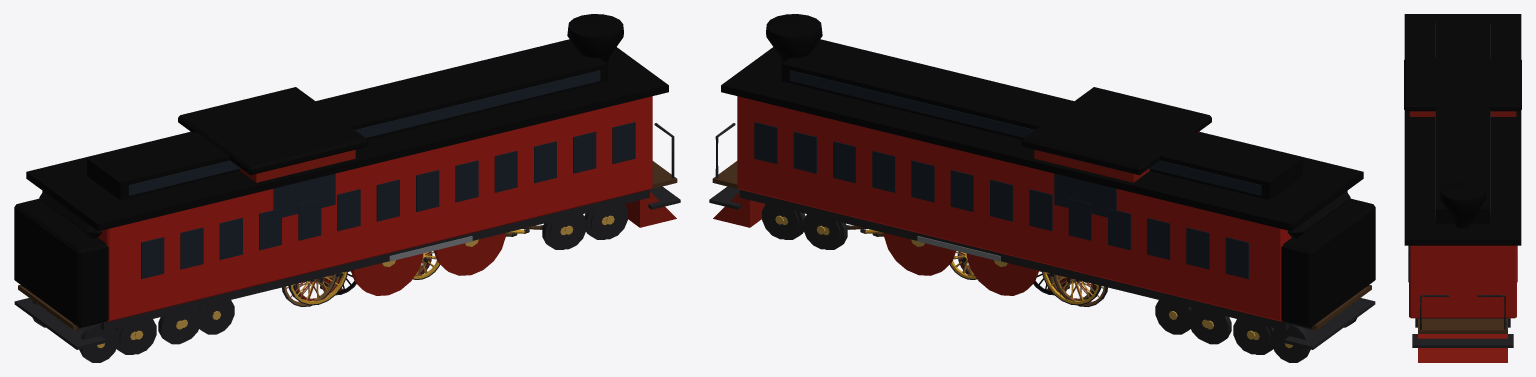
The model's file is vehicles.glb.
3 renders of one model, left to right at view 1: azimuth 30°, elevation 25°; view 2: azimuth 150°, elevation 25°; view 3: azimuth 270°, elevation 25°, orthographic. The views are drawn at different scales.
Visible parts, largest first — view 1: coach.body, locomotive.body, covered_standing.body, stagecoach_trailer.body, coach_standing.body; view 2: coach.body, locomotive.body, stagecoach_trailer.body, covered_standing.body; view 3: coach.body, locomotive.body.
Boxes of the visible parts, left/top/right/bottom form: coach.body: left=14, top=39, right=680, bottom=354; locomotive.body: left=14, top=14, right=676, bottom=362; covered_standing.body: left=282, top=225, right=543, bottom=305; stagecoach_trailer.body: left=291, top=252, right=439, bottom=304; coach_standing.body: left=288, top=229, right=529, bottom=305; coach.body: left=709, top=39, right=1375, bottom=354; locomotive.body: left=713, top=14, right=1375, bottom=362; stagecoach_trailer.body: left=949, top=251, right=1099, bottom=305; covered_standing.body: left=846, top=225, right=1107, bottom=306; coach.body: left=1404, top=14, right=1521, bottom=347; locomotive.body: left=1404, top=58, right=1521, bottom=362.
Bounding box in the file's own units: 14.6 × 4.47 × 3.05.
